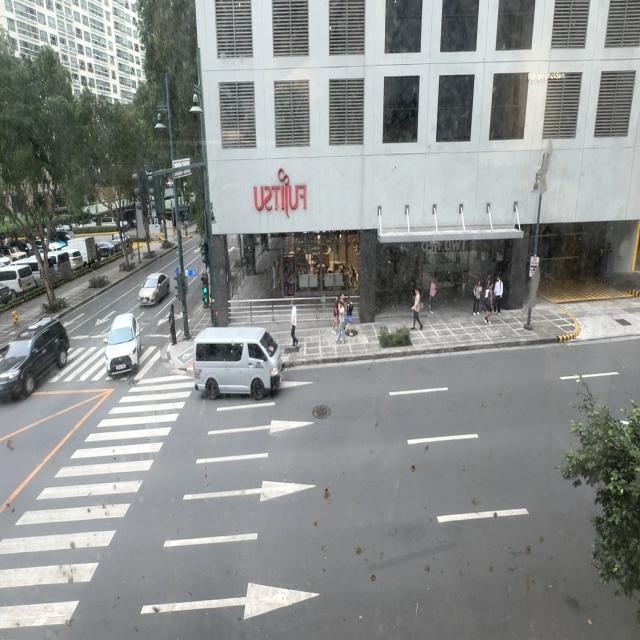waiting: (168, 306, 177, 346)
